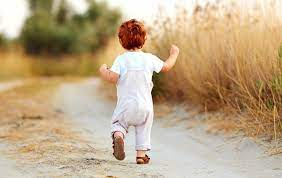child: (96, 15, 181, 166)
